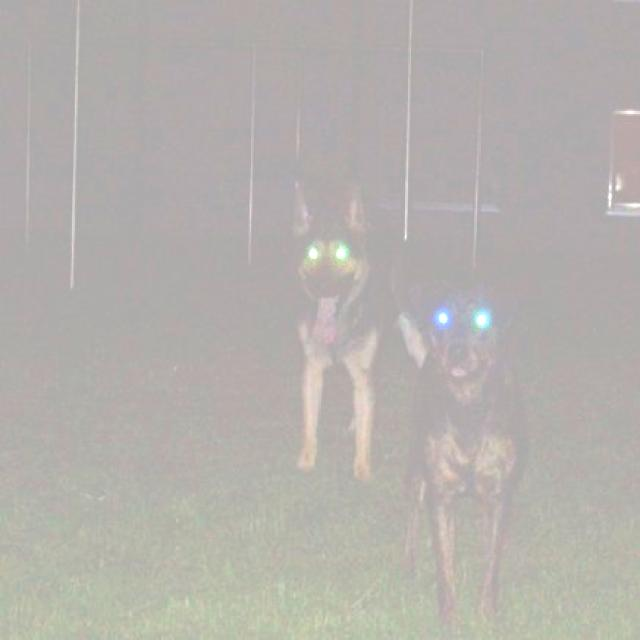Dog: (426, 182, 598, 610), (229, 108, 398, 504)
